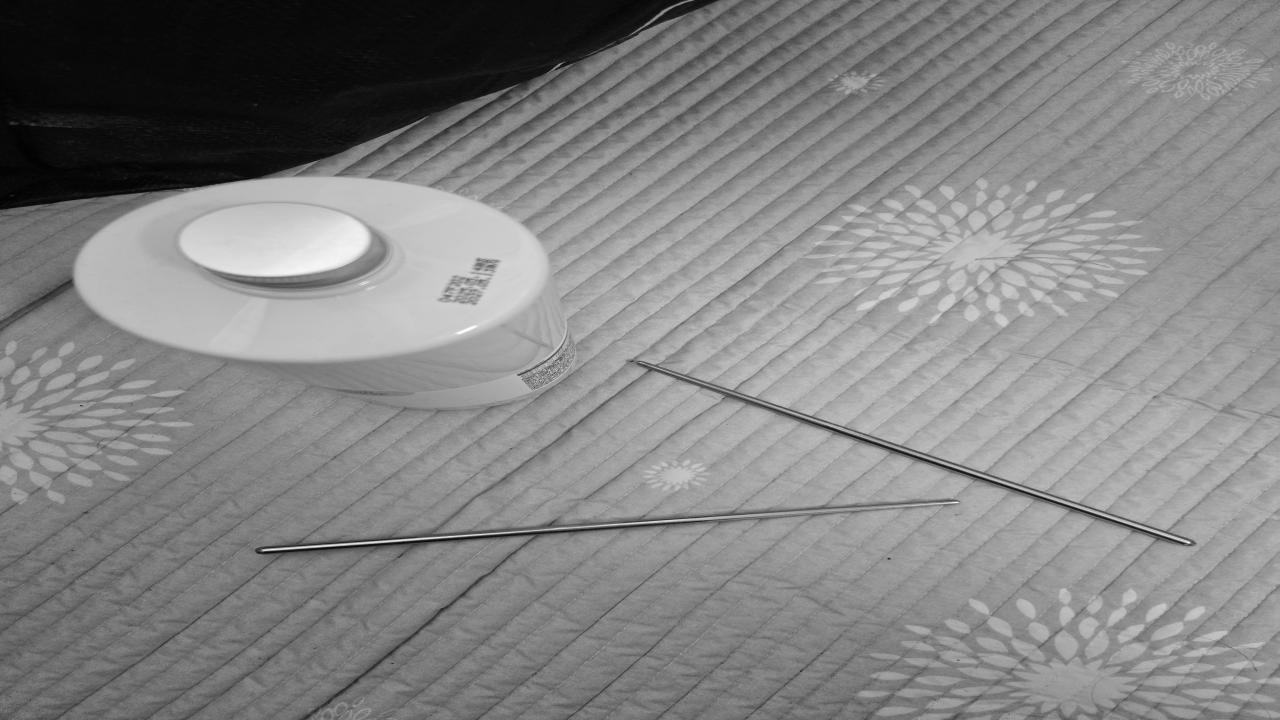bottle_cap: (176, 203, 388, 289)
chopstick: (636, 360, 1198, 546), (258, 498, 960, 552)
